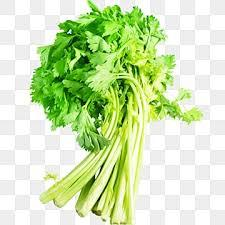non-mango: (29, 0, 203, 224)
